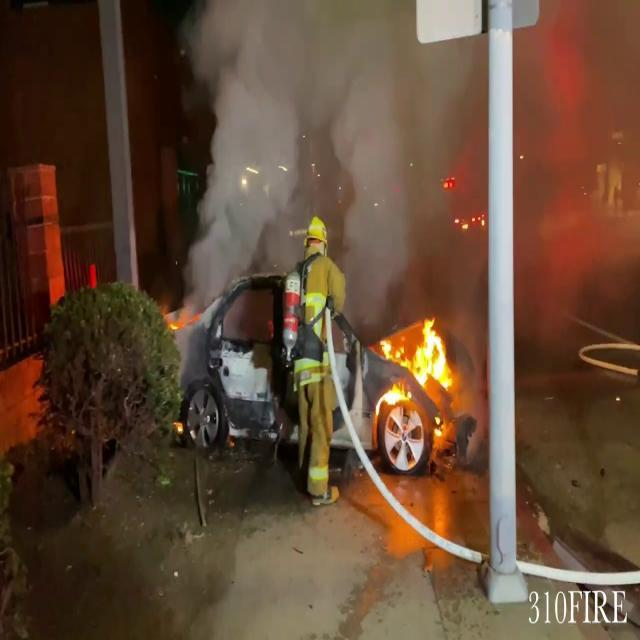Fire: (374, 312, 462, 402)
Smoke: (182, 0, 486, 310), (515, 0, 640, 435)
